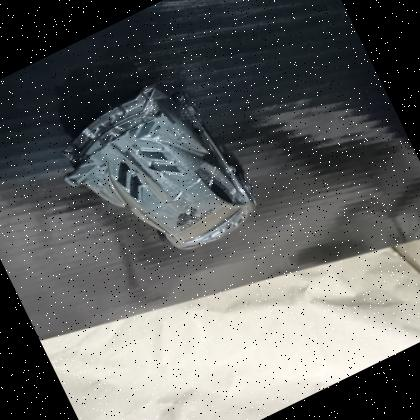Car: (33, 52, 273, 294)
